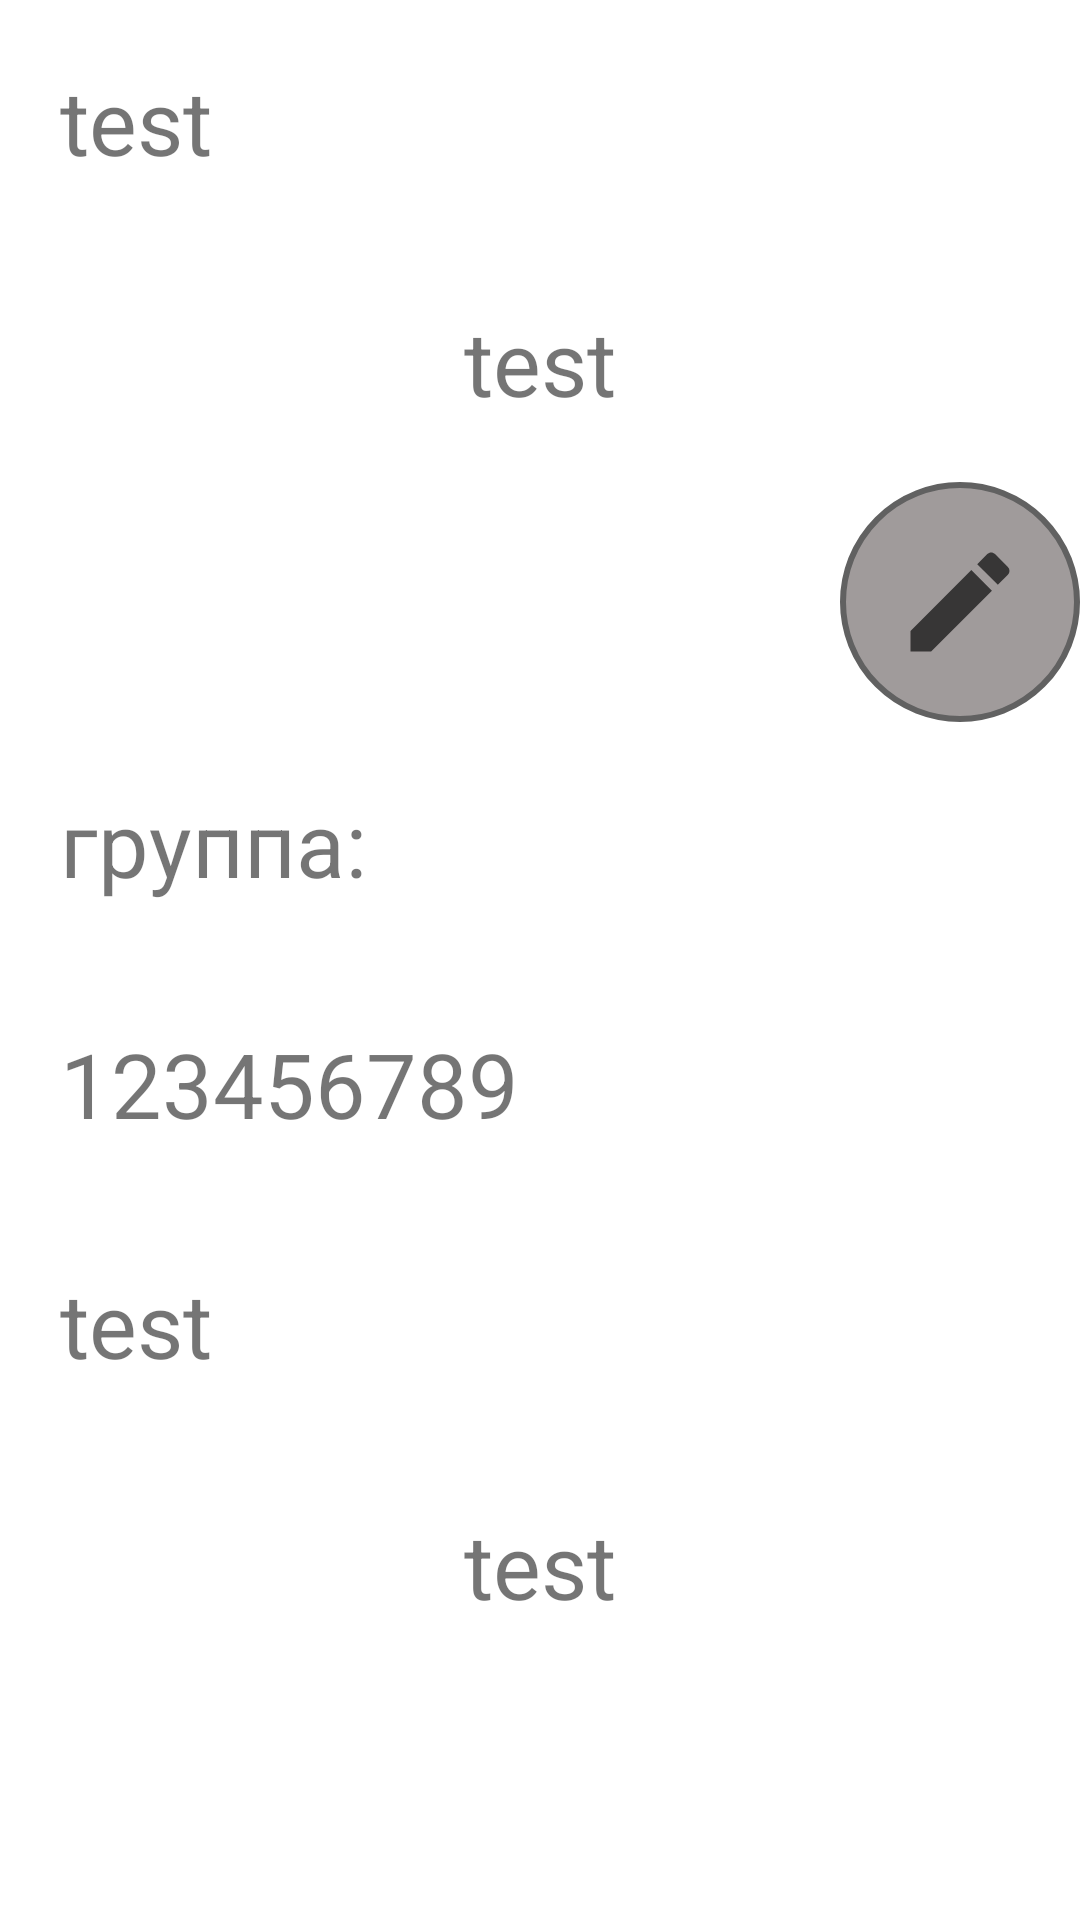

Screen size 1080px×1920px. Icon name, then its box in pixels as (x1, y1, x2, y2):
edit: (840, 482, 1080, 722)
